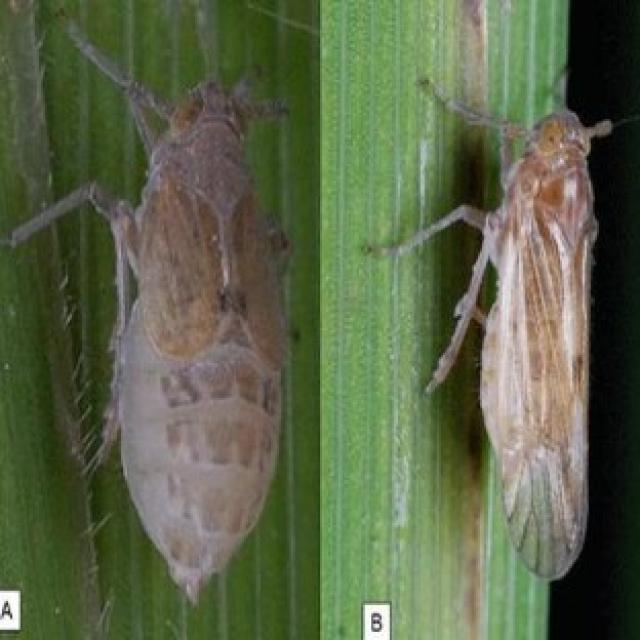brown plant hopper: (10, 29, 289, 599), (363, 78, 613, 581)
